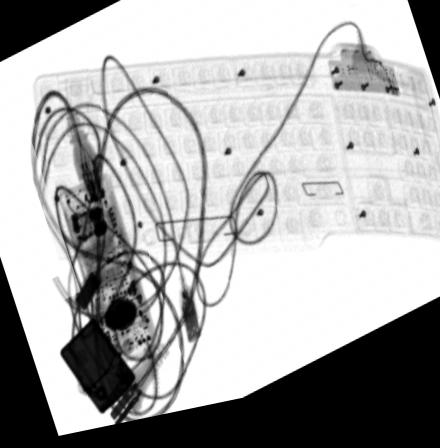Lighter: (58, 321, 135, 420)
